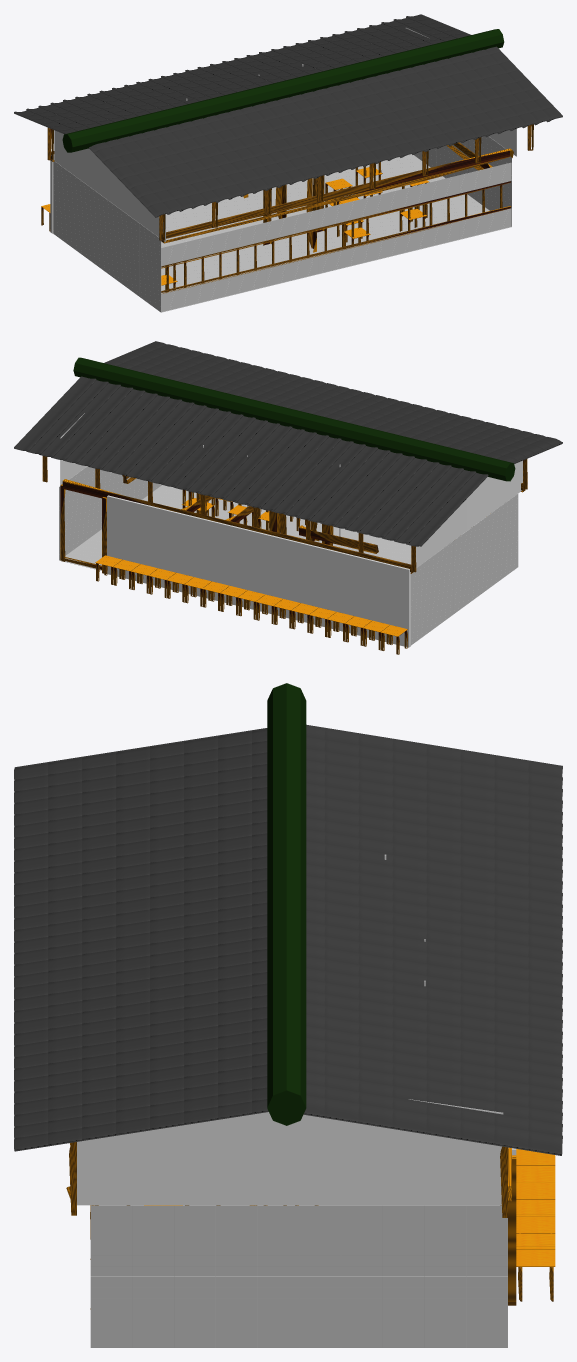
Rendered from SampleA.fbx.
3 renders of one model, top to bottom at view 1: azimuth 30°, elevation 25°; view 2: azimuth 150°, elevation 25°; view 3: azimuth 270°, elevation 25°, orthographic. The views are drawn at different scales.
Visible parts, largest first — view 1: Cube.070, Cube.068, Cube.010, Cylinder.003, Cube.012, Cube.016, Cube.014, Cube.066, Cube.106, Cube.013, Cube.018, Cube.017 (+2 smaller); view 2: Cube.068, Cube.109, Cube.070, Cylinder.003, Cube.012, Cube.108, Cube.010, Cube.013, Cube.106, Cube.065, Cube.047, Cube.107; view 3: Cube.068, Cube.070, Cube.013, Cube.107, Cylinder.003, Cube.108, Cube.110.
Boxes of the visible parts, left/top/right/bottom form: Cube.070: left=89, top=46, right=562, bottom=217; Cube.068: left=14, top=14, right=470, bottom=134; Cube.010: left=161, top=154, right=511, bottom=312; Cylinder.003: left=62, top=29, right=504, bottom=152; Cube.012: left=53, top=161, right=161, bottom=312; Cube.016: left=161, top=162, right=511, bottom=266; Cube.014: left=161, top=208, right=511, bottom=311; Cube.066: left=161, top=148, right=513, bottom=243; Cube.106: left=54, top=130, right=165, bottom=242; Cube.013: left=414, top=136, right=511, bottom=226; Cube.018: left=161, top=206, right=510, bottom=293; Cube.017: left=161, top=181, right=510, bottom=268; Cube.068: left=14, top=376, right=488, bottom=546; Cube.109: left=107, top=495, right=410, bottom=647; Cube.070: left=104, top=341, right=562, bottom=463; Cylinder.003: left=73, top=357, right=515, bottom=481; Cube.012: left=411, top=494, right=518, bottom=645; Cube.108: left=95, top=555, right=407, bottom=654; Cube.010: left=59, top=485, right=411, bottom=570; Cube.013: left=59, top=466, right=161, bottom=560; Cube.106: left=416, top=460, right=522, bottom=567; Cube.065: left=62, top=479, right=413, bottom=573; Cube.047: left=299, top=525, right=378, bottom=553; Cube.107: left=60, top=413, right=86, bottom=485; Cube.068: left=303, top=724, right=562, bottom=1155; Cube.070: left=14, top=728, right=268, bottom=1151; Cube.013: left=90, top=1205, right=507, bottom=1347; Cube.107: left=77, top=1099, right=503, bottom=1205; Cylinder.003: left=267, top=683, right=306, bottom=1125; Cube.108: left=516, top=1149, right=555, bottom=1301; Cube.110: left=500, top=1155, right=516, bottom=1305.
Size of the model in its own units: 4920 by 1652 by 2802.
